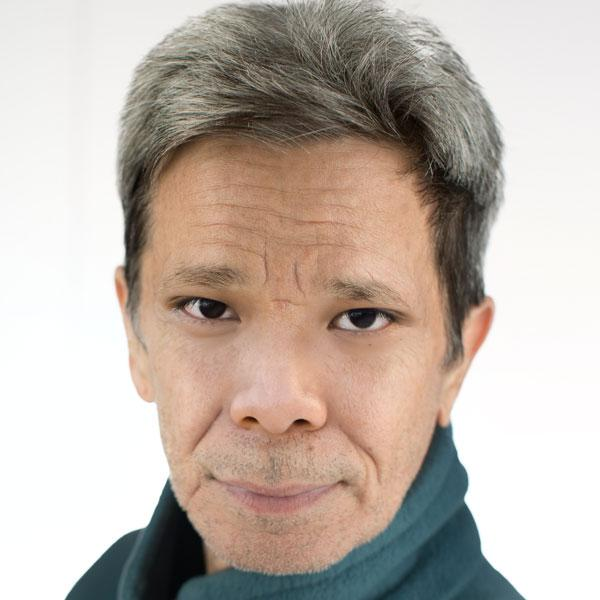Eyes: (321, 298, 412, 344), (163, 286, 246, 336)
